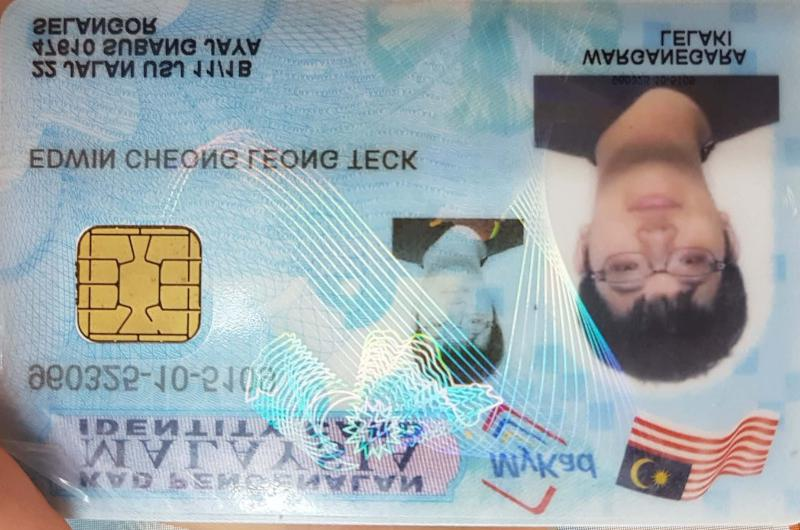hologram: (256, 173, 392, 330)
